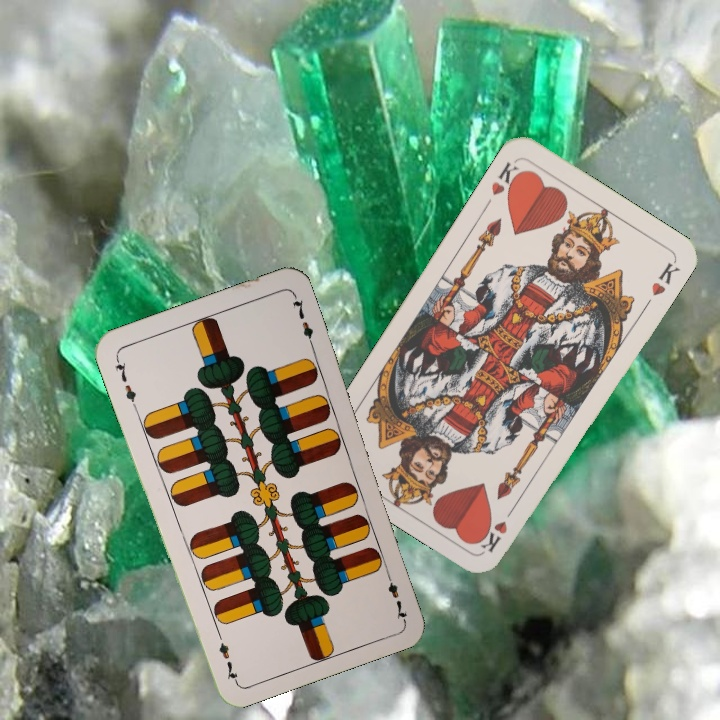E7: (381, 565, 410, 622), (111, 354, 140, 410)
HK: (477, 501, 519, 555), (487, 157, 526, 200)
